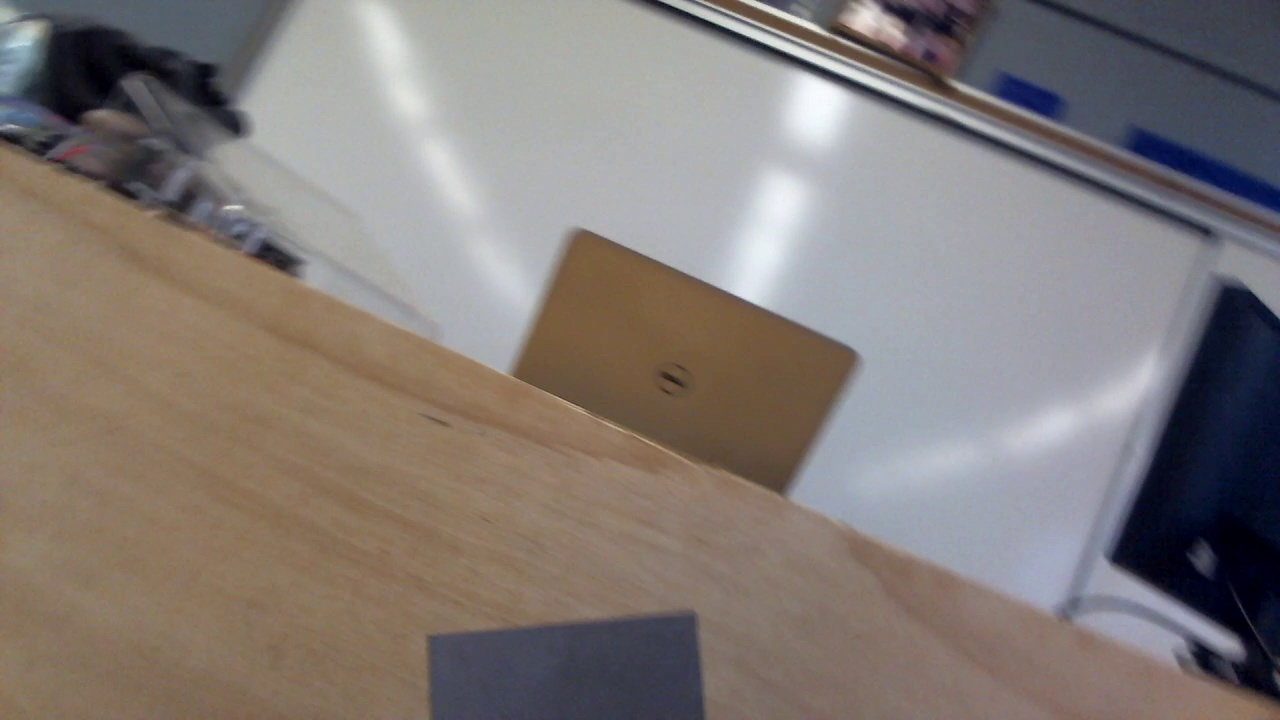Tape: (428, 606, 706, 720)
